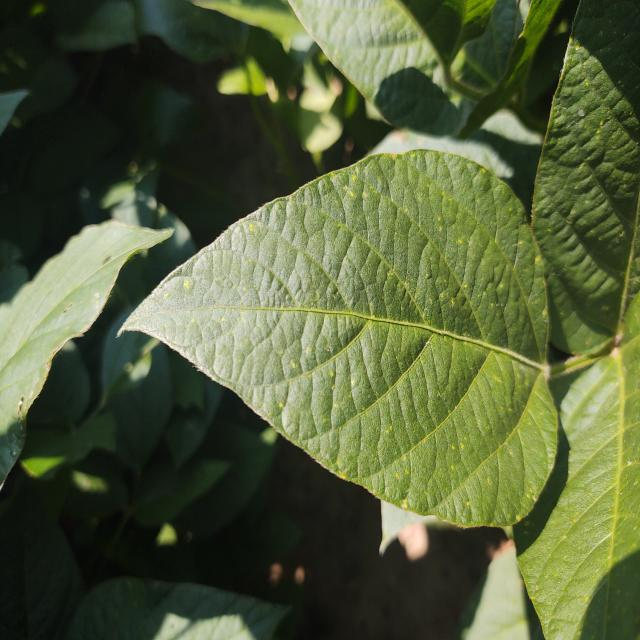Soybean: (120, 0, 640, 640)
downey_mildew: (133, 305, 416, 495), (380, 347, 524, 516), (321, 199, 418, 341), (599, 334, 637, 634), (127, 296, 298, 357), (145, 142, 267, 227), (506, 404, 570, 558), (8, 293, 103, 382), (150, 323, 259, 397), (413, 322, 577, 371), (543, 260, 629, 349), (493, 209, 545, 353), (294, 152, 437, 204), (461, 41, 536, 139), (0, 339, 56, 457), (279, 317, 379, 382), (245, 82, 304, 186), (77, 223, 171, 288), (576, 152, 639, 248), (296, 309, 370, 374), (559, 357, 619, 432), (617, 152, 640, 335), (417, 234, 459, 327), (561, 517, 618, 582), (612, 342, 630, 530), (517, 0, 570, 61), (125, 298, 196, 343), (252, 267, 310, 313), (599, 82, 640, 143), (430, 37, 466, 101), (342, 311, 439, 333), (447, 57, 496, 99), (457, 0, 502, 39), (242, 303, 355, 317), (151, 611, 194, 640), (20, 455, 68, 479), (360, 34, 423, 51), (244, 57, 269, 97), (16, 395, 27, 421), (115, 324, 128, 338), (102, 255, 112, 265)
